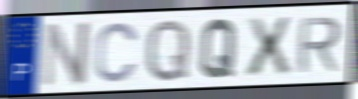C: (93, 20, 141, 85)
N: (39, 19, 92, 90)
Q: (143, 16, 193, 84), (197, 16, 239, 81)
R: (294, 15, 344, 75)
X: (244, 14, 294, 79)
